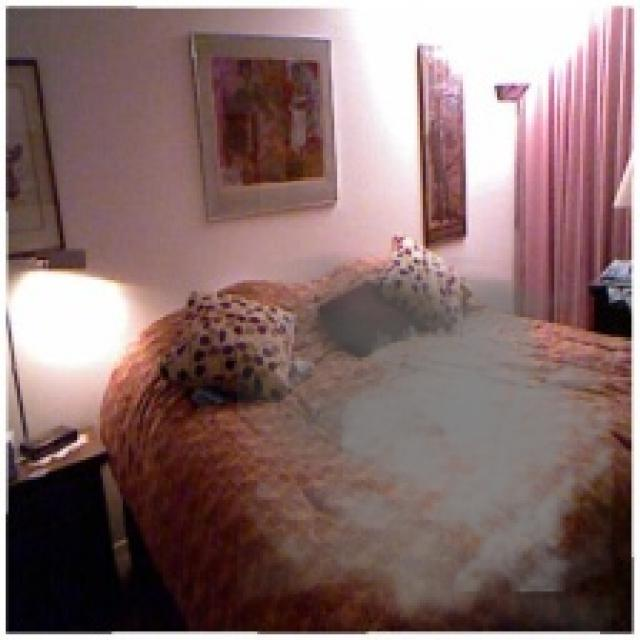smoke: (237, 252, 626, 634)
